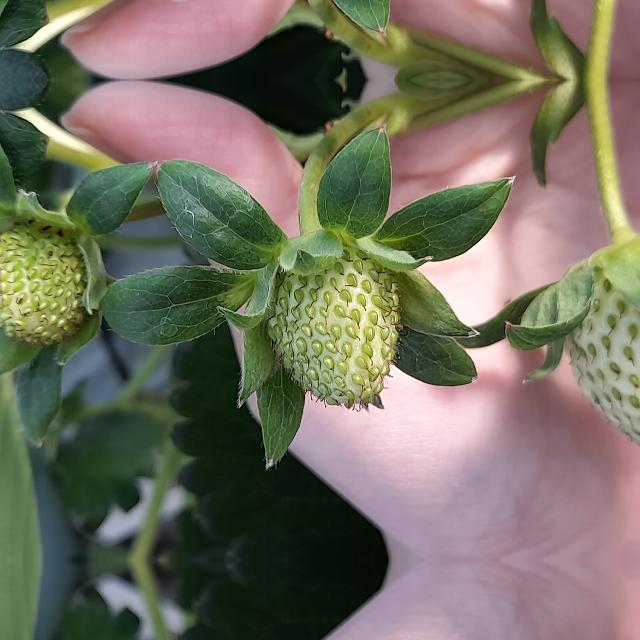Health_25: (263, 245, 401, 413), (562, 264, 640, 451), (0, 218, 92, 347)
